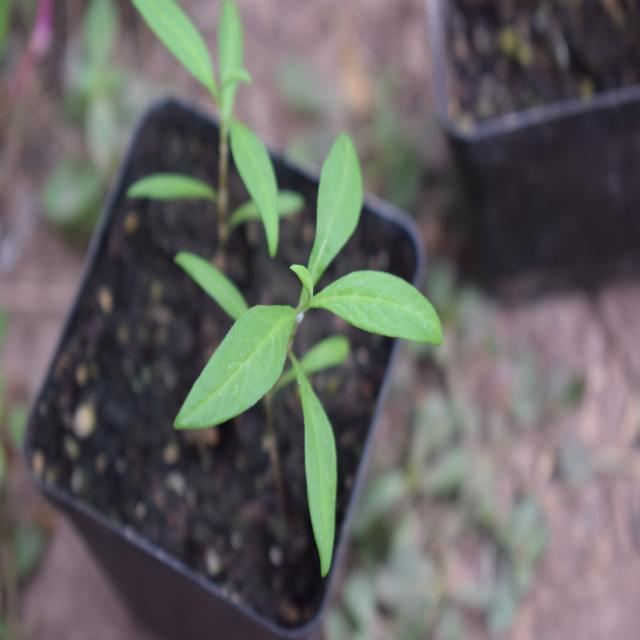white_smart_weed: (189, 145, 447, 579)
